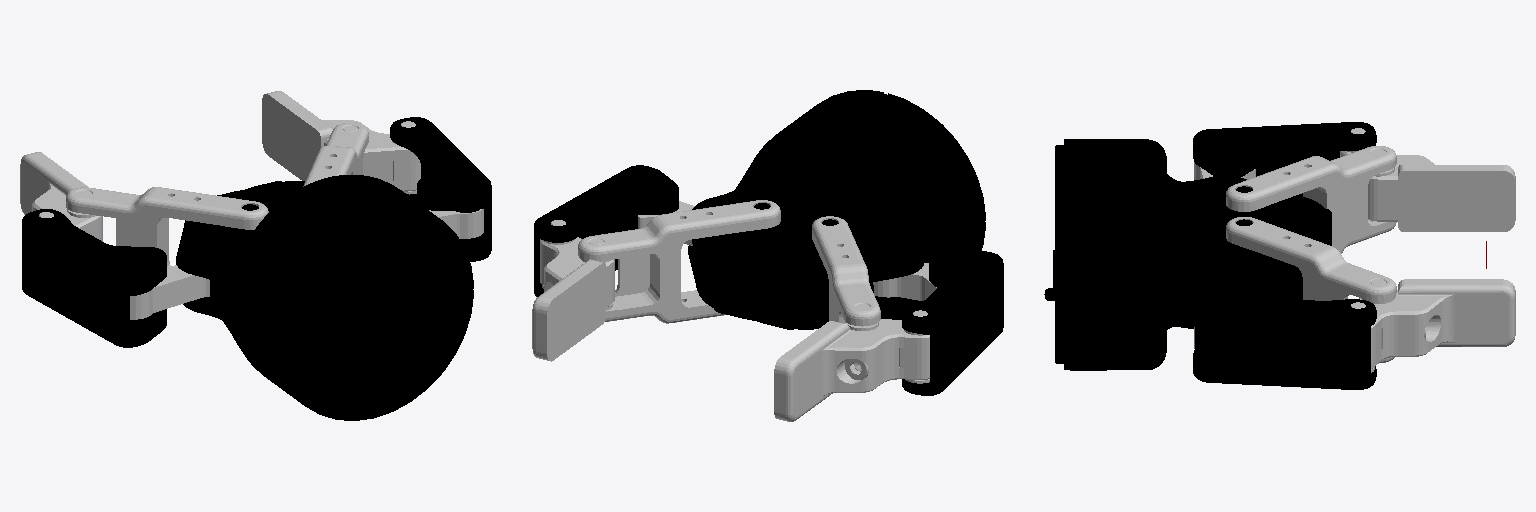
URDF robot description (ur5e_robotiq):
<?xml version="1.0" encoding="utf-8"?>
<robot name="ur5e_robotiq">

  <!-- ========== UR5e Robot Links and Joints ========== -->

  <!-- Base Link -->
  <link name="base_link">
    <visual>
      <origin rpy="0 0 3.14159265359" xyz="0 0 0.0" />
      <geometry>
        <mesh filename="../meshes/ur5e_update/visual/base.dae" />
      </geometry>
      <material name="LightGrey">
        <color rgba="0.8 0.8 0.8 1.0" />
      </material>
    </visual>
    <inertial>
      <mass value="4.0" />
      <origin rpy="0 0 0" xyz="0.0 0.0 0.0" />
      <inertia ixx="0.00443333156" ixy="0.0" ixz="0.0" iyy="0.00443333156" iyz="0.0" izz="0.0072" />
    </inertial>
  </link>

  <!-- Shoulder Pan Joint -->
  <joint name="shoulder_pan_joint" type="revolute">
    <parent link="base_link" />
    <child link="shoulder_link" />
    <origin rpy="0 0 0" xyz="0 0 0.1625" />
    <axis xyz="0 0 1" />
    <limit effort="150.0" lower="-3.142" upper="3.142" velocity="3.14" />
    <dynamics damping="0.0" friction="0.0" />
  </joint>

  <!-- Shoulder Link -->
  <link name="shoulder_link">
    <visual>
      <geometry>
        <mesh filename="../meshes/ur5e_update/visual/shoulder.dae" />
      </geometry>
      <material name="UR_Blue">
        <color rgba="0.376 0.576 0.674 1.0" />
      </material>
    </visual>
    <inertial>
      <mass value="3.7" />
      <origin rpy="0 0 0" xyz="0.0 0.0 0.0" />
      <inertia ixx="0.010267495893" ixy="0.0" ixz="0.0" iyy="0.010267495893" iyz="0.0" izz="0.00666" />
    </inertial>
  </link>

  <!-- Shoulder Lift Joint -->
  <joint name="shoulder_lift_joint" type="revolute">
    <parent link="shoulder_link" />
    <child link="upper_arm_link" />
    <origin rpy="0 1.570796327 0" xyz="0 0.138 0" />
    <axis xyz="0 1 0" />
    <limit effort="150.0" lower="-1.571" upper="1.571" velocity="3.14" />
    <dynamics damping="0.0" friction="0.0" />
  </joint>

  <!-- Upper Arm Link -->
  <link name="upper_arm_link">
    <visual>
      <geometry>
        <mesh filename="../meshes/ur5e_update/visual/upperarm.dae" />
      </geometry>
      <material name="LightGrey">
        <color rgba="0.8 0.8 0.8 1.0" />
      </material>
    </visual>
    <inertial>
      <mass value="8.393" />
      <origin rpy="0 1.57079632679 0" xyz="-0.2125 0.0 0.138" />
      <inertia ixx="0.138134736413" ixy="0.0" ixz="0.0" iyy="0.138134736413" iyz="0.0"
        izz="0.0236053125" />
    </inertial>
  </link>

  <!-- Elbow Joint -->
  <joint name="elbow_joint" type="revolute">
    <parent link="upper_arm_link" />
    <child link="forearm_link" />
    <origin rpy="0 0 0" xyz="0 -0.131 0.425" />
    <axis xyz="0 1 0" />
    <limit effort="150.0" lower="-3.142" upper="3.142" velocity="3.14" />
    <dynamics damping="0.0" friction="0.0" />
  </joint>

  <!-- Forearm Link -->
  <link name="forearm_link">
    <visual>
      <geometry>
        <mesh filename="../meshes/ur5e_update/visual/forearm.dae" />
      </geometry>
      <material name="LightGrey">
        <color rgba="0.8 0.8 0.8 1.0" />
      </material>
    </visual>
    <inertial>
      <mass value="2.275" />
      <origin rpy="0 1.57079632679 0" xyz="-0.2125 0.0 0.007" />
      <inertia ixx="0.0323610733889" ixy="0.0" ixz="0.0" iyy="0.0323610733889" iyz="0.0"
        izz="0.0063984375" />
    </inertial>
  </link>

  <!-- Wrist 1 Joint -->
  <joint name="wrist_1_joint" type="revolute">
    <parent link="forearm_link" />
    <child link="wrist_1_link" />
    <origin rpy="0 1.5708 0" xyz="0 0 0.3922" />
    <axis xyz="0 1 0" />
    <limit effort="28.0" lower="-3.142" upper="3.142" velocity="6.28" />
    <dynamics damping="0.0" friction="0.0" />
  </joint>

  <!-- Wrist 1 Link -->
  <link name="wrist_1_link">
    <visual>
      <geometry>
        <mesh filename="../meshes/ur5e_update/visual/wrist1.dae" />
      </geometry>
      <material name="UR_Blue">
        <color rgba="0.376 0.576 0.674 1.0" />
      </material>
    </visual>
    <inertial>
      <mass value="1.219" />
      <origin rpy="0 0 0" xyz="0.0 0.0 0.0" />
      <inertia ixx="0.00272396513625" ixy="0.0" ixz="0.0" iyy="0.00272396513625" iyz="0.0"
        izz="0.0034284375" />
    </inertial>
  </link>

  <!-- Wrist 2 Joint -->
  <joint name="wrist_2_joint" type="revolute">
    <parent link="wrist_1_link" />
    <child link="wrist_2_link" />
    <origin rpy="0 0 0" xyz="0 0.127 0" />
    <axis xyz="0 0 1" />
    <limit effort="28.0" lower="-3.142" upper="3.142" velocity="6.28" />
    <dynamics damping="0.0" friction="0.0" />
  </joint>

  <!-- Wrist 2 Link -->
  <link name="wrist_2_link">
    <visual>
      <geometry>
        <mesh filename="../meshes/ur5e_update/visual/wrist2.dae" />
      </geometry>
      <material name="LightGrey">
        <color rgba="0.8 0.8 0.8 1.0" />
      </material>
    </visual>
    <inertial>
      <mass value="1.219" />
      <origin rpy="0 0 0" xyz="0.0 0.0 0.0" />
      <inertia ixx="0.00272194058122" ixy="0.0" ixz="0.0" iyy="0.00272194058122" iyz="0.0"
        izz="0.0034284375" />
    </inertial>
  </link>

  <!-- Wrist 3 Joint -->
  <joint name="wrist_3_joint" type="revolute">
    <parent link="wrist_2_link" />
    <child link="wrist_3_link" />
    <origin rpy="0 0 0" xyz="0 0 0.1" />
    <axis xyz="0 1 0" />
    <limit effort="28.0" lower="-3.142" upper="3.142" velocity="6.28" />
    <dynamics damping="0.0" friction="0.0" />
  </joint>

  <!-- Wrist 3 Link -->
  <link name="wrist_3_link">
    <visual>
      <geometry>
        <mesh filename="../meshes/ur5e_update/visual/wrist3.dae" />
      </geometry>
      <material name="LightGrey">
        <color rgba="0.8 0.8 0.8 1.0" />
      </material>
    </visual>
    <inertial>
      <mass value="0.1879" />
      <origin rpy="0 0 0" xyz="0.0 0.0 -0.025" />
      <inertia ixx="0.000134270154625" ixy="0.0" ixz="0.0" iyy="0.000134270154625" iyz="0.0"
        izz="0.00019024875" />
    </inertial>
  </link>

  <!-- ========== Robotiq 2F-85 Gripper Links and Joints ========== -->

  <!-- Gripper Base Link -->
  <link name="robotiq_85_base_link">
    <visual>
      <geometry>
        <mesh filename="../meshes/robotiq/visual/robotiq_base.obj" />
      </geometry>
      <material name="Dark">
        <color rgba="0 0 0 1.0" />
      </material>
    </visual>
    <inertial>
      <origin rpy="0 0 0" xyz="0.0 2.274e-05 0.03232288" />
      <mass value="6.6320197e-01" />
      <inertia ixx="5.1617816e-04" ixy="2.936e-8" ixz="0.0" iyy="5.8802208e-04" iyz="-3.2296e-7"
        izz="3.9462776e-04" />
    </inertial>
  </link>

  <!-- Gripper Base Joint -->
  <joint name="robotiq_85_base_joint" type="fixed">
    <parent link="wrist_3_link" />
    <child link="robotiq_85_base_link" />
    <origin rpy="-1.5708 0 0" xyz="0 0.1 0" />
  </joint>

  <!-- Left Knuckle Link -->
  <link name="robotiq_85_left_knuckle_link">
    <visual>
      <geometry>
        <mesh filename="../meshes/robotiq/visual/left_knuckle.obj" />
      </geometry>
      <material name="LightGrey">
        <color rgba="0.8 0.8 0.8 1.0" />
      </material>
    </visual>
    <inertial>
      <origin rpy="0 0 0" xyz="0.01213197 0.0002 -0.00058647" />
      <mass value="1.384773208e-02" />
      <inertia ixx="3.5232e-7" ixy="0.0" ixz="1.1744e-7" iyy="2.31944e-6" iyz="0" izz="2.23136e-6" />
    </inertial>
  </link>

  <!-- Left Knuckle Joint -->
  <joint name="robotiq_85_left_knuckle_joint" type="revolute">
    <parent link="robotiq_85_base_link" />
    <child link="robotiq_85_left_knuckle_link" />
    <axis xyz="0 -1 0" />
    <origin rpy="0 0 0" xyz="0.03060114 0.0 0.05490452" />
    <limit effort="50" lower="0.0" upper="0.8" velocity="0.5" />
  </joint>

  <!-- Right Knuckle Link -->
  <link name="robotiq_85_right_knuckle_link">
    <visual>
      <geometry>
        <mesh filename="../meshes/robotiq/visual/right_knuckle.obj" />
      </geometry>
      <material name="LightGrey">
        <color rgba="0.8 0.8 0.8 1.0" />
      </material>
    </visual>
    <inertial>
      <origin rpy="0 0 0" xyz="-0.01213197 0.0002 -0.00058647" />
      <mass value="1.384773208e-02" />
      <inertia ixx="3.5232e-7" ixy="0.0" ixz="-1.1744e-7" iyy="2.31944e-6" iyz="0.0"
        izz="2.23136e-6" />
    </inertial>
  </link>

  <!-- Right Knuckle Joint -->
  <joint name="robotiq_85_right_knuckle_joint" type="revolute">
    <parent link="robotiq_85_base_link" />
    <child link="robotiq_85_right_knuckle_link" />
    <axis xyz="0 -1 0" />
    <origin rpy="0 0 0" xyz="-0.03060114 0.0 0.05490452" />
    <limit effort="50" lower="-0.8" upper="0.0" velocity="0.5" />
    <mimic joint="robotiq_85_left_knuckle_joint" multiplier="-1" />
  </joint>

  <!-- Left Finger Link -->
  <link name="robotiq_85_left_finger_link">
    <visual>
      <geometry>
        <mesh filename="../meshes/robotiq/visual/left_finger.obj" />
      </geometry>
      <material name="Dark">
        <color rgba="0 0 0 1.0" />
      </material>
    </visual>
    <inertial>
      <origin rpy="0 0 0" xyz="0.00346899 -0.00079447 0.01867121" />
      <mass value="4.260376752e-02" />
      <inertia ixx="1.385792000000000e-05" ixy="0.0" ixz="-2.17264e-06" iyy="1.183208e-05" iyz="0.0"
        izz="5.19672e-06" />
    </inertial>
  </link>

  <!-- Left Finger Joint -->
  <joint name="robotiq_85_left_finger_joint" type="fixed">
    <parent link="robotiq_85_left_knuckle_link" />
    <child link="robotiq_85_left_finger_link" />
    <origin rpy="0 0 0" xyz="0.03152616 0.0 -0.00376347" />
  </joint>

  <!-- Right Finger Link -->
  <link name="robotiq_85_right_finger_link">
    <visual>
      <geometry>
        <mesh filename="../meshes/robotiq/visual/right_finger.obj" />
      </geometry>
      <material name="Dark">
        <color rgba="0 0 0 1.0" />
      </material>
    </visual>
    <inertial>
      <origin rpy="0 0 0" xyz="-0.00346899 -5.53e-06 0.01867121" />
      <mass value="4.260376752000000e-02" />
      <inertia ixx="1.385792e-05" ixy="0.0" ixz="2.17264e-06" iyy="1.183208e-05" iyz="0.0"
        izz="5.19672e-06" />
    </inertial>
  </link>

  <!-- Right Finger Joint -->
  <joint name="robotiq_85_right_finger_joint" type="fixed">
    <parent link="robotiq_85_right_knuckle_link" />
    <child link="robotiq_85_right_finger_link" />
    <origin rpy="0 0 0" xyz="-0.03152616 0.0 -0.00376347" />
  </joint>

  <!-- Left Inner Knuckle Link -->
  <link name="robotiq_85_left_inner_knuckle_link">
    <visual>
      <geometry>
        <mesh filename="../meshes/robotiq/visual/left_inner_knuckle.obj" />
      </geometry>
      <material name="LightGrey">
        <color rgba="0.8 0.8 0.8 1.0" />
      </material>
    </visual>
    <inertial>
      <origin rpy="0 0 0" xyz="0.01897699 0.00015001 0.02247101" />
      <mass value="2.969376448e-02" />
      <inertia ixx="9.57136e-06" ixy="0.0" ixz="-3.93424e-06" iyy="8.69056e-06" iyz="0.0"
        izz="8.19144e-06" />
    </inertial>
  </link>

  <!-- Left Inner Knuckle Joint -->
  <joint name="robotiq_85_left_inner_knuckle_joint" type="continuous">
    <parent link="robotiq_85_base_link" />
    <child link="robotiq_85_left_inner_knuckle_link" />
    <axis xyz="0 -1 0" />
    <origin rpy="0 0 0" xyz="0.0127 0.0 0.06142" />
    <mimic joint="robotiq_85_left_knuckle_joint" />
  </joint>

  <!-- Right Inner Knuckle Link -->
  <link name="robotiq_85_right_inner_knuckle_link">
    <visual>
      <geometry>
        <mesh filename="../meshes/robotiq/visual/right_inner_knuckle.obj" />
      </geometry>
      <material name="LightGrey">
        <color rgba="0.8 0.8 0.8 1.0" />
      </material>
    </visual>
    <inertial>
      <origin rpy="0 0 0" xyz="-0.01926824 5.001e-05 0.02222178" />
      <mass value="2.969376448e-02" />
      <inertia ixx="9.42456e-06" ixy="0.0" ixz="3.9636e-06" iyy="8.69056e-06" iyz="0.0"
        izz="8.33824e-06" />
    </inertial>
  </link>

  <!-- Right Inner Knuckle Joint -->
  <joint name="robotiq_85_right_inner_knuckle_joint" type="continuous">
    <parent link="robotiq_85_base_link" />
    <child link="robotiq_85_right_inner_knuckle_link" />
    <axis xyz="0 -1 0" />
    <origin rpy="0 0 0" xyz="-0.0127 0.0 0.06142" />
    <mimic joint="robotiq_85_left_knuckle_joint" multiplier="-1" />
  </joint>

  <!-- Left Finger Tip Link -->
  <link name="robotiq_85_left_finger_tip_link">
    <visual>
      <geometry>
        <mesh filename="../meshes/robotiq/visual/left_finger_tip.obj" />
      </geometry>
      <material name="LightGrey">
        <color rgba="0.8 0.8 0.8 1.0" />
      </material>
    </visual>
    <inertial>
      <origin rpy="0 0 0" xyz="-0.01456706 -0.0008 0.01649701" />
      <mass value="4.268588744e-02" />
      <inertia ixx="1.048152e-05" ixy="0.0" ixz="3.5232e-6" iyy="1.197888e-05" iyz="0.0"
        izz="4.22784e-06" />
    </inertial>
  </link>

  <!-- Left Finger Tip Joint -->
  <joint name="robotiq_85_left_finger_tip_joint" type="continuous">
    <parent link="robotiq_85_left_finger_link" />
    <child link="robotiq_85_left_finger_tip_link" />
    <axis xyz="0 -1 0" />
    <origin rpy="0 0 0" xyz="0.00563134 0.0 0.04718515" />
    <mimic joint="robotiq_85_left_knuckle_joint" multiplier="-1" />
  </joint>

  <!-- Right Finger Tip Link -->
  <link name="robotiq_85_right_finger_tip_link">
    <visual>
      <geometry>
        <mesh filename="../meshes/robotiq/visual/right_finger_tip.obj" />
      </geometry>
      <material name="LightGrey">
        <color rgba="0.8 0.8 0.8 1.0" />
      </material>
    </visual>
    <inertial>
      <origin rpy="0 0 0" xyz="0.01456706 5e-05 0.01649701" />
      <mass value="4.268588744e-02" />
      <inertia ixx="1.048152e-05" ixy="0.0" ixz="-3.5232e-06" iyy="1.197888e-05" iyz="0.0"
        izz="4.22784e-06" />
    </inertial>
  </link>

  <!-- Right Finger Tip Joint -->
  <joint name="robotiq_85_right_finger_tip_joint" type="continuous">
    <parent link="robotiq_85_right_finger_link" />
    <child link="robotiq_85_right_finger_tip_link" />
    <axis xyz="0 -1 0" />
    <origin rpy="0 0 0" xyz="-0.00563134 0.0 0.04718515" />
    <mimic joint="robotiq_85_left_knuckle_joint" />
  </joint>

  <!-- Gripper Center Link -->
  <link name="gripper_center_link">
    <visual>
      <origin rpy="1.5708 0 0" xyz="0 0 0" />
      <geometry>
        <cylinder length="0.01" radius="0.0001" />
      </geometry>
      <material name="Red">
        <color rgba="1 0 0 0.2" />
      </material>
    </visual>
    <inertial>
      <origin rpy="0 0 0" xyz="0 0 0" />
      <mass value="0.001" />
      <inertia ixx="0.000001" ixy="0" ixz="0" iyy="0.000001" iyz="0" izz="0.000001" />
    </inertial>
  </link>

  <!-- Gripper Center Joint -->
  <joint name="gripper_center_joint" type="fixed">
    <parent link="wrist_3_link" />
    <child link="gripper_center_link" />
    <origin rpy="-1.5708 0.0 0" xyz="0 0.24 0" />
  </joint>

</robot>

--- What the picture shows (computed from the rendered views, not written in the file) ---
Views: 3 orthographic renders of the robot side by side, from view 1: azimuth 30°, elevation 25°; view 2: azimuth 150°, elevation 25°; view 3: azimuth 270°, elevation 25°.
Robot: ur5e_robotiq — 17 links, 16 joints (8 revolute, 4 continuous, 4 fixed); root link base_link; default pose: every joint at zero.
Visible links, largest first — view 1: robotiq_85_base_link, robotiq_85_left_finger_link, robotiq_85_left_inner_knuckle_link, robotiq_85_right_finger_tip_link, robotiq_85_right_finger_link, robotiq_85_left_finger_tip_link, robotiq_85_right_inner_knuckle_link, robotiq_85_left_knuckle_link, robotiq_85_right_knuckle_link; view 2: robotiq_85_base_link, robotiq_85_right_inner_knuckle_link, robotiq_85_left_finger_tip_link, robotiq_85_left_finger_link, robotiq_85_right_finger_tip_link, robotiq_85_right_finger_link, robotiq_85_left_inner_knuckle_link, robotiq_85_left_knuckle_link; view 3: robotiq_85_base_link, robotiq_85_right_finger_link, robotiq_85_right_finger_tip_link, robotiq_85_left_finger_tip_link, robotiq_85_left_inner_knuckle_link, robotiq_85_left_finger_link, robotiq_85_right_inner_knuckle_link.
Link boxes in pixels (bbox=[...]): robotiq_85_base_link: bbox=[176, 175, 473, 420]; robotiq_85_left_finger_link: bbox=[22, 209, 166, 347]; robotiq_85_left_inner_knuckle_link: bbox=[66, 187, 268, 267]; robotiq_85_right_finger_tip_link: bbox=[262, 91, 420, 194]; robotiq_85_right_finger_link: bbox=[390, 117, 491, 261]; robotiq_85_left_finger_tip_link: bbox=[20, 152, 102, 241]; robotiq_85_right_inner_knuckle_link: bbox=[303, 123, 368, 186]; robotiq_85_left_knuckle_link: bbox=[130, 265, 209, 319]; robotiq_85_right_knuckle_link: bbox=[429, 209, 483, 238]; robotiq_85_base_link: bbox=[688, 90, 985, 329]; robotiq_85_right_inner_knuckle_link: bbox=[578, 200, 780, 323]; robotiq_85_left_finger_tip_link: bbox=[774, 310, 929, 421]; robotiq_85_left_finger_link: bbox=[902, 250, 1003, 395]; robotiq_85_right_finger_tip_link: bbox=[532, 220, 614, 361]; robotiq_85_right_finger_link: bbox=[534, 165, 678, 296]; robotiq_85_left_inner_knuckle_link: bbox=[812, 216, 880, 326]; robotiq_85_left_knuckle_link: bbox=[873, 263, 936, 300]; robotiq_85_base_link: bbox=[1044, 139, 1331, 370]; robotiq_85_right_finger_link: bbox=[1193, 281, 1376, 389]; robotiq_85_right_finger_tip_link: bbox=[1351, 279, 1515, 372]; robotiq_85_left_finger_tip_link: bbox=[1340, 128, 1515, 231]; robotiq_85_left_inner_knuckle_link: bbox=[1226, 146, 1396, 253]; robotiq_85_left_finger_link: bbox=[1193, 122, 1376, 195]; robotiq_85_right_inner_knuckle_link: bbox=[1226, 217, 1396, 363].
Bounding box of the posed robot: 0.1524 × 0.1527 × 0.075 m (x, y, z).
9 mesh visuals loaded from 16 distinct referenced files (9 OBJ); not drawn: 7 (reference not matched to a file when rendering).